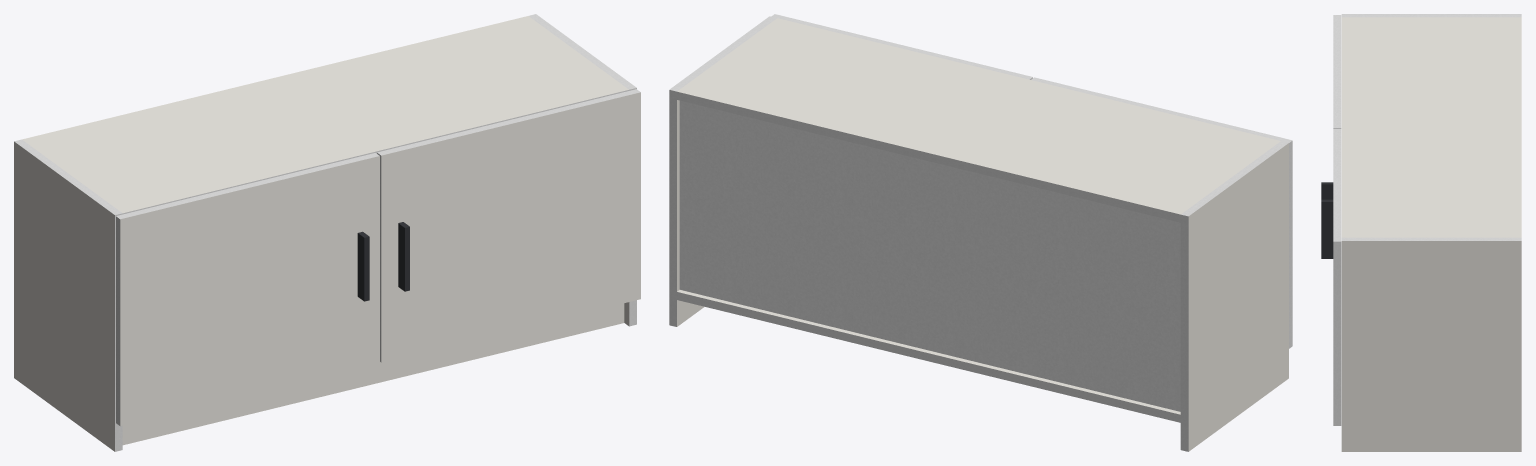
The model's file is LIT-MED-short.glb.
3 renders of one model, left to right at view 1: azimuth 30°, elevation 25°; view 2: azimuth 150°, elevation 25°; view 3: azimuth 270°, elevation 25°, orthographic. The views are drawn at different scales.
Visible parts, largest first — view 1: door-r:pbr, door-l:pbr, top:pbr, side-l:pbr, plinth:pbr, pull, door-l:sheet:eyJtIjoibWRmIiwic2lkZSI6ImVkZ2UtbG9uZyIsInNlZWQ, door-r:sheet:eyJtIjoibWRmIiwic2lkZSI6ImVkZ2UtbG9uZyIsInNlZWQ, door-l:sheet:eyJtIjoibWRmIiwic2lkZSI6ImVkZ2UtZW5kIiwic2VlZCI, top:sheet:eyJtIjoibWRmIiwic2lkZSI6ImVkZ2UtbG9uZyIsInNlZWQiOj, side-l:sheet:eyJtIjoibWRmIiwic2lkZSI6ImVkZ2UtZW5kIiwic2VlZCI, side-r:sheet:eyJtIjoibWRmIiwic2lkZSI6ImVkZ2UtZW5kIiwic2VlZCI; view 2: back:sheet:eyJtIjoibWRmIiwic2lkZSI6ImZhY2UiLCJzZWVkIjoxLCJ0a, top:pbr, side-l:pbr, top:sheet:eyJtIjoibWRmIiwic2lkZSI6ImVkZ2UtbG9uZyIsInNlZWQiOj, bottom:sheet:eyJtIjoibWRmIiwic2lkZSI6ImVkZ2UtbG9uZyIsInNlZWQ, side-l:sheet:eyJtIjoibWRmIiwic2lkZSI6ImVkZ2UtbG9uZyIsInNlZWQ, side-r:sheet:eyJtIjoibWRmIiwic2lkZSI6ImVkZ2UtbG9uZyIsInNlZWQ, bottom:pbr, door-r:sheet:eyJtIjoibWRmIiwic2lkZSI6ImVkZ2UtbG9uZyIsInNlZWQ, door-l:sheet:eyJtIjoibWRmIiwic2lkZSI6ImVkZ2UtbG9uZyIsInNlZWQ, side-r:pbr, side-l:sheet:eyJtIjoibWRmIiwic2lkZSI6ImVkZ2UtZW5kIiwic2VlZCI (+2 smaller); view 3: top:pbr, side-r:pbr, door-r:sheet:eyJtIjoibWRmIiwic2lkZSI6ImVkZ2UtZW5kIiwic2VlZCI, door-r:sheet:eyJtIjoibWRmIiwic2lkZSI6ImVkZ2UtbG9uZyIsInNlZWQ, door-l:sheet:eyJtIjoibWRmIiwic2lkZSI6ImVkZ2UtbG9uZyIsInNlZWQ, pull, side-l:sheet:eyJtIjoibWRmIiwic2lkZSI6ImVkZ2UtZW5kIiwic2VlZCI, side-r:sheet:eyJtIjoibWRmIiwic2lkZSI6ImVkZ2UtZW5kIiwic2VlZCI.
Part boxes in pixels (box(x1,y1,x2,y2)): door-r:pbr: box(381, 92, 640, 362); door-l:pbr: box(120, 156, 379, 425); top:pbr: box(22, 16, 628, 213); side-l:pbr: box(14, 141, 114, 451); plinth:pbr: box(122, 303, 624, 445); pull: box(357, 222, 409, 301); door-l:sheet:eyJtIjoibWRmIiwic2lkZSI6ImVkZ2UtbG9uZyIsInNlZWQ: box(116, 153, 379, 219); door-r:sheet:eyJtIjoibWRmIiwic2lkZSI6ImVkZ2UtbG9uZyIsInNlZWQ: box(377, 89, 640, 155); door-l:sheet:eyJtIjoibWRmIiwic2lkZSI6ImVkZ2UtZW5kIiwic2VlZCI: box(116, 216, 120, 425); top:sheet:eyJtIjoibWRmIiwic2lkZSI6ImVkZ2UtbG9uZyIsInNlZWQiOj: box(122, 90, 629, 214); side-l:sheet:eyJtIjoibWRmIiwic2lkZSI6ImVkZ2UtZW5kIiwic2VlZCI: box(14, 139, 122, 214); side-r:sheet:eyJtIjoibWRmIiwic2lkZSI6ImVkZ2UtZW5kIiwic2VlZCI: box(529, 14, 636, 89); back:sheet:eyJtIjoibWRmIiwic2lkZSI6ImZhY2UiLCJzZWVkIjoxLCJ0a: box(679, 100, 1180, 411); top:pbr: box(677, 18, 1280, 214); side-l:pbr: box(1188, 143, 1288, 451); top:sheet:eyJtIjoibWRmIiwic2lkZSI6ImVkZ2UtbG9uZyIsInNlZWQiOj: box(677, 91, 1180, 222); bottom:sheet:eyJtIjoibWRmIiwic2lkZSI6ImVkZ2UtbG9uZyIsInNlZWQ: box(677, 292, 1180, 422); side-l:sheet:eyJtIjoibWRmIiwic2lkZSI6ImVkZ2UtbG9uZyIsInNlZWQ: box(1180, 214, 1188, 451); side-r:sheet:eyJtIjoibWRmIiwic2lkZSI6ImVkZ2UtbG9uZyIsInNlZWQ: box(669, 90, 676, 326); bottom:pbr: box(677, 290, 1180, 414); door-r:sheet:eyJtIjoibWRmIiwic2lkZSI6ImVkZ2UtbG9uZyIsInNlZWQ: box(771, 14, 1032, 79); door-l:sheet:eyJtIjoibWRmIiwic2lkZSI6ImVkZ2UtbG9uZyIsInNlZWQ: box(1031, 77, 1292, 142); side-r:pbr: box(677, 100, 704, 326); side-l:sheet:eyJtIjoibWRmIiwic2lkZSI6ImVkZ2UtZW5kIiwic2VlZCI: box(1181, 141, 1288, 216); top:pbr: box(1341, 17, 1521, 237); side-r:pbr: box(1341, 241, 1521, 451); door-r:sheet:eyJtIjoibWRmIiwic2lkZSI6ImVkZ2UtZW5kIiwic2VlZCI: box(1333, 241, 1341, 425); door-r:sheet:eyJtIjoibWRmIiwic2lkZSI6ImVkZ2UtbG9uZyIsInNlZWQ: box(1333, 128, 1341, 241); door-l:sheet:eyJtIjoibWRmIiwic2lkZSI6ImVkZ2UtbG9uZyIsInNlZWQ: box(1333, 15, 1341, 127); pull: box(1321, 182, 1333, 258); side-l:sheet:eyJtIjoibWRmIiwic2lkZSI6ImVkZ2UtZW5kIiwic2VlZCI: box(1341, 14, 1521, 17); side-r:sheet:eyJtIjoibWRmIiwic2lkZSI6ImVkZ2UtZW5kIiwic2VlZCI: box(1341, 237, 1521, 240).
Bounding box in the file's own units: 1.2 × 0.52 × 0.4468.
34 materials, 23 textured.
